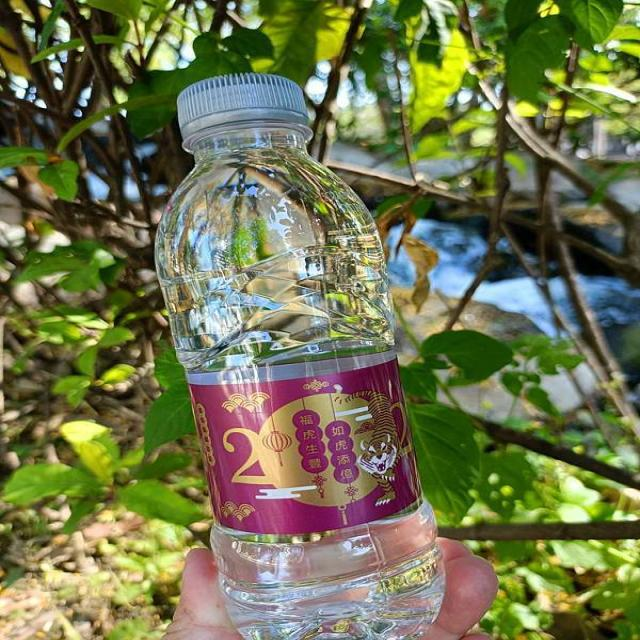plastic: (162, 72, 446, 640)
